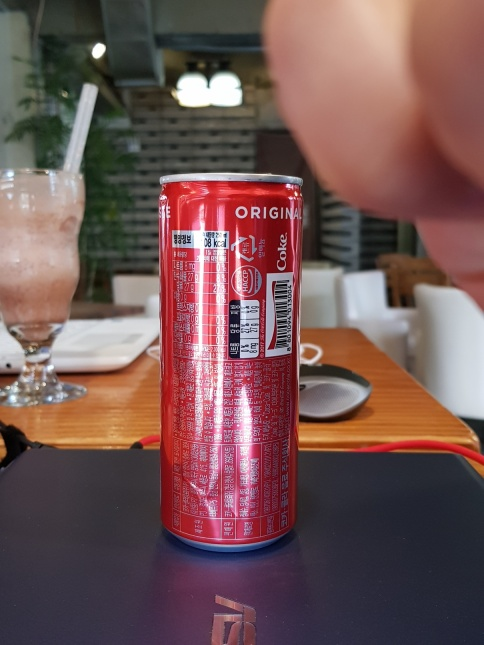Can: (152, 169, 309, 553)
